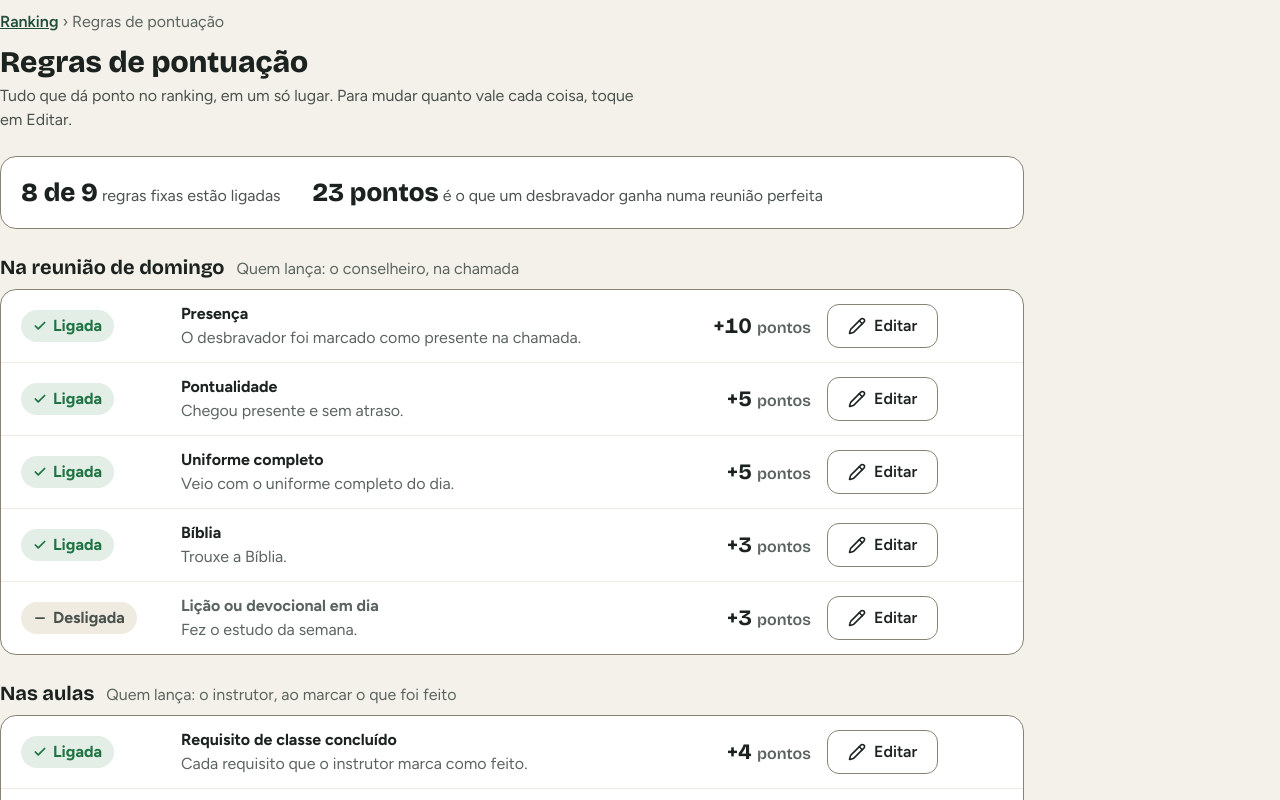
it: Painel da regra · caixa de efeito › desligar troca o texto para o de regra desligada
The image size is (1280, 800).
Click the button with aria-label "Editar Presença" at (883, 326), box [827,304,938,348]
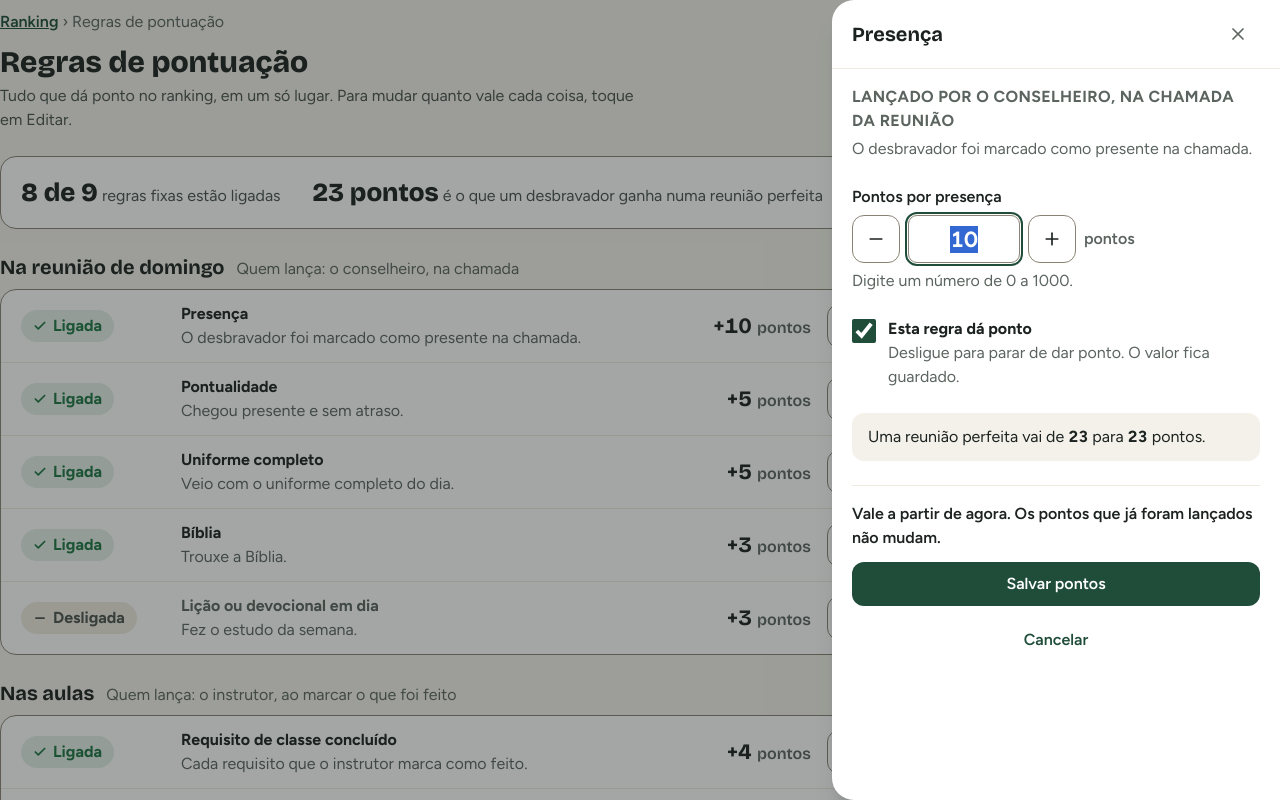
Click the checkbox labelled "Esta regra dá ponto" at (864, 331), box [852,319,876,343]
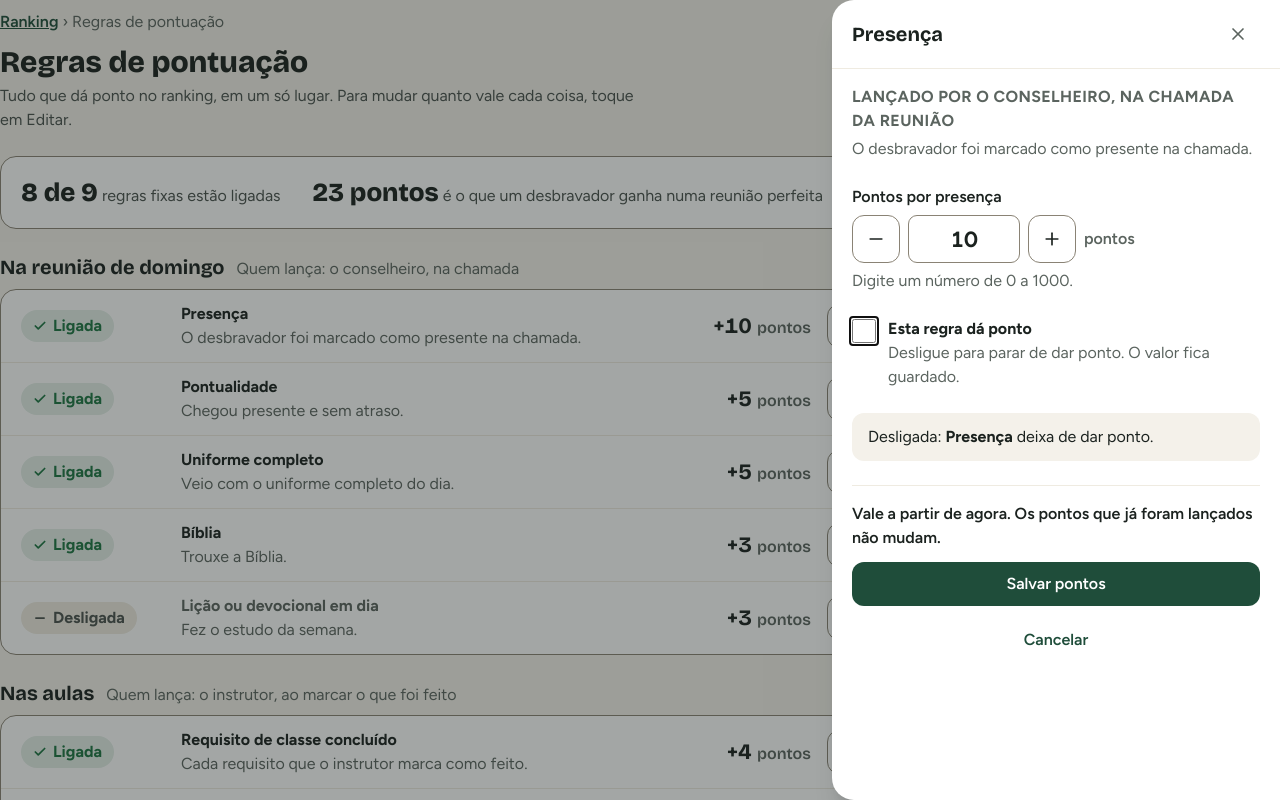
Result: the text "Desligada: Presença deixa de dar ponto." is shown at [852,413,1260,461]
